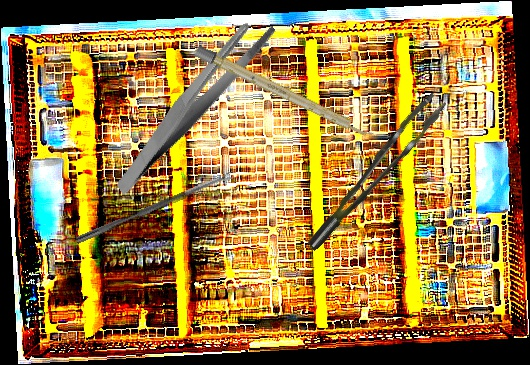Dressing Forceps: (81, 11, 305, 196)
Scalpel Handle: (193, 44, 375, 142)
Surgical Spoon: (75, 171, 235, 245)
Tissue Forceps: (288, 90, 461, 252)
